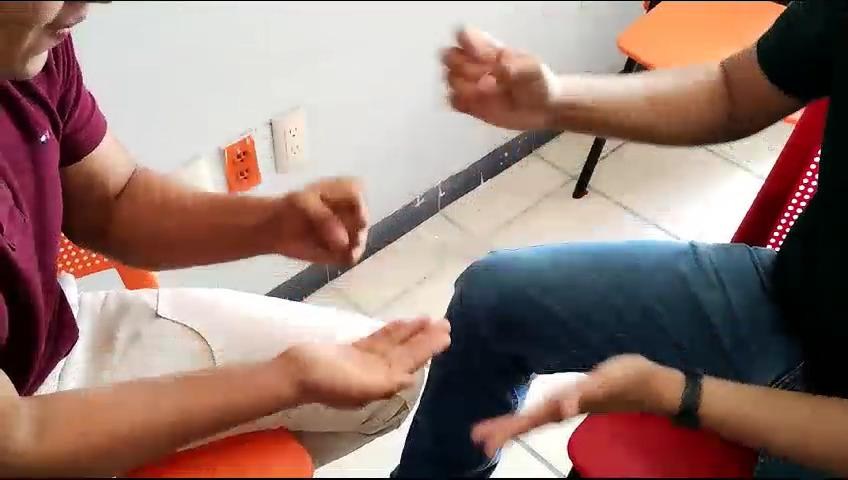Stone: (267, 171, 377, 280)
